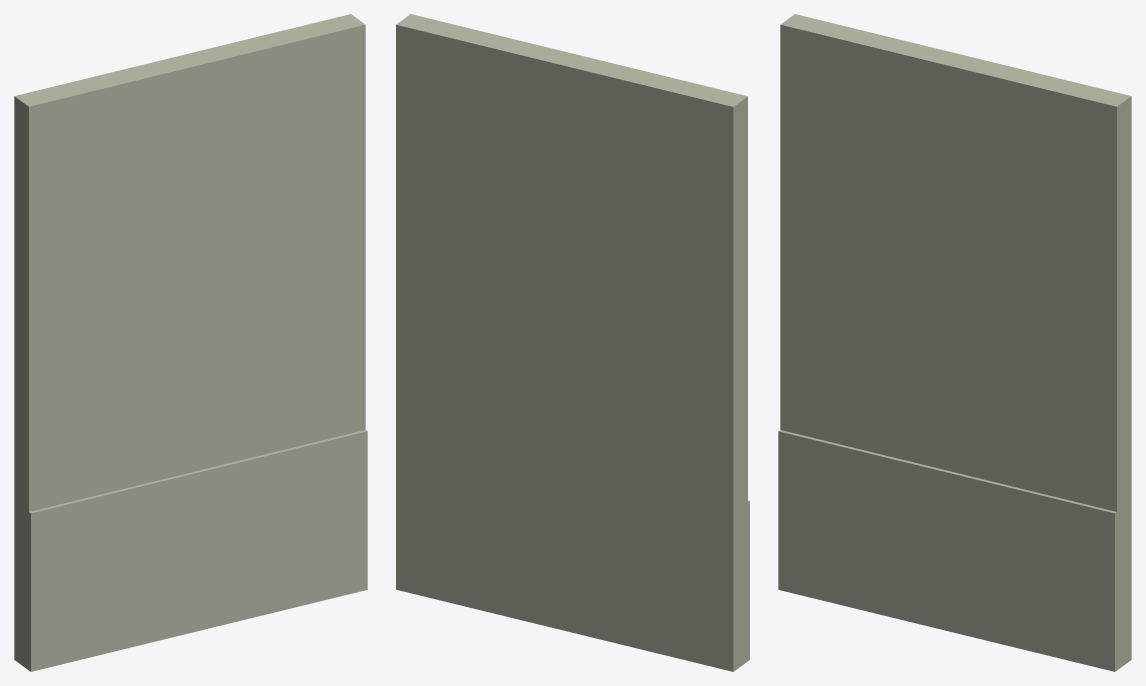
File: SM_P2_Hallway_Wall_2m.obj
3 renders of one model, left to right at view 1: azimuth 30°, elevation 25°; view 2: azimuth 150°, elevation 25°; view 3: azimuth 330°, elevation 25°, orthographic.
Visible parts, largest first — view 1: wall_body, dado_band; view 2: wall_body; view 3: wall_body, dado_band.
Part boxes in pixels (x1,y1,x2,y2): wall_body: (14, 14, 365, 670); dado_band: (29, 430, 367, 671); wall_body: (396, 14, 747, 671); wall_body: (780, 14, 1131, 670); dado_band: (778, 430, 1116, 671).
Bounding box in the file's own units: 2 × 3.2 × 0.17.
